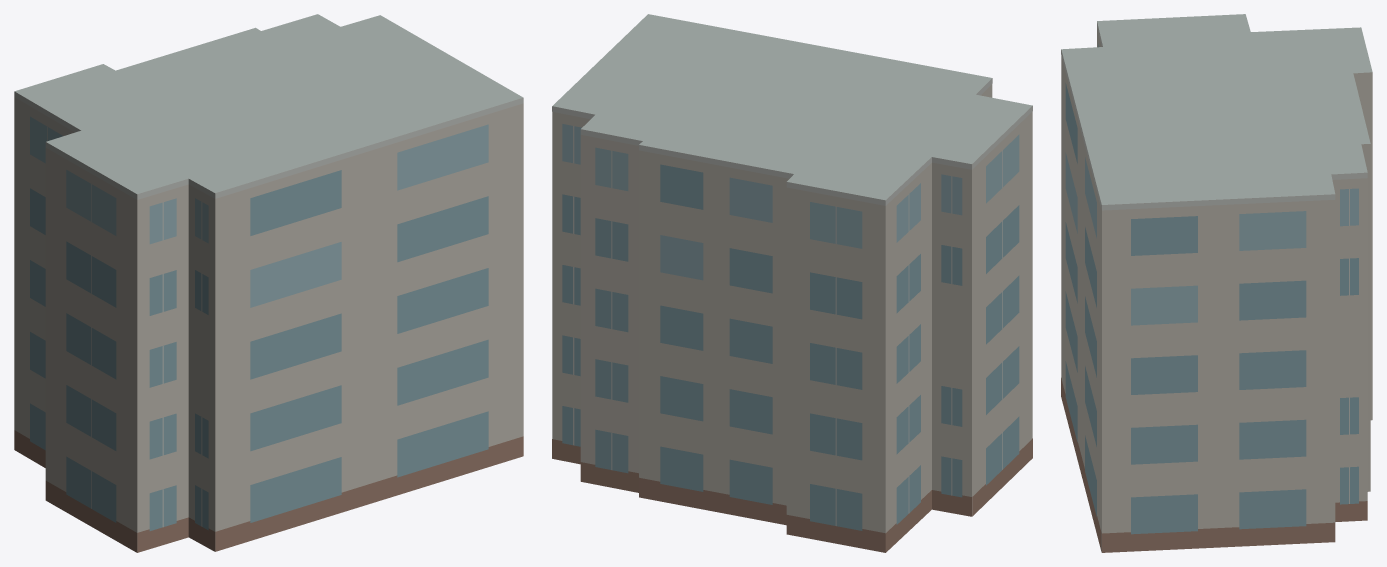
The model's file is survey-upis-32960780.glb.
3 renders of one model, left to right at view 1: azimuth 30°, elevation 25°; view 2: azimuth 150°, elevation 25°; view 3: azimuth 270°, elevation 25°, orthographic. The views are drawn at different scales.
Parts seen in each view (by area): view 1: survey-upis-32960780.tmp; view 2: survey-upis-32960780.tmp; view 3: survey-upis-32960780.tmp.
Part boxes in pixels (bbox=[...]): survey-upis-32960780.tmp: bbox=[14, 14, 523, 552]; survey-upis-32960780.tmp: bbox=[552, 14, 1032, 552]; survey-upis-32960780.tmp: bbox=[1061, 14, 1372, 552].
Bounding box in the file's own units: 18.09 × 15.35 × 12.47.
